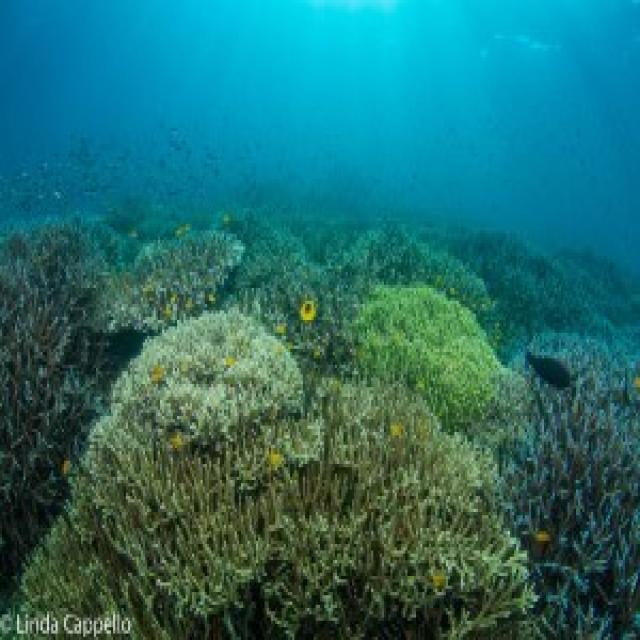Healthy: (33, 411, 302, 638), (285, 385, 524, 638), (502, 375, 639, 638), (1, 267, 93, 542), (129, 308, 304, 439), (359, 286, 502, 430), (103, 219, 244, 321), (528, 321, 639, 388)
